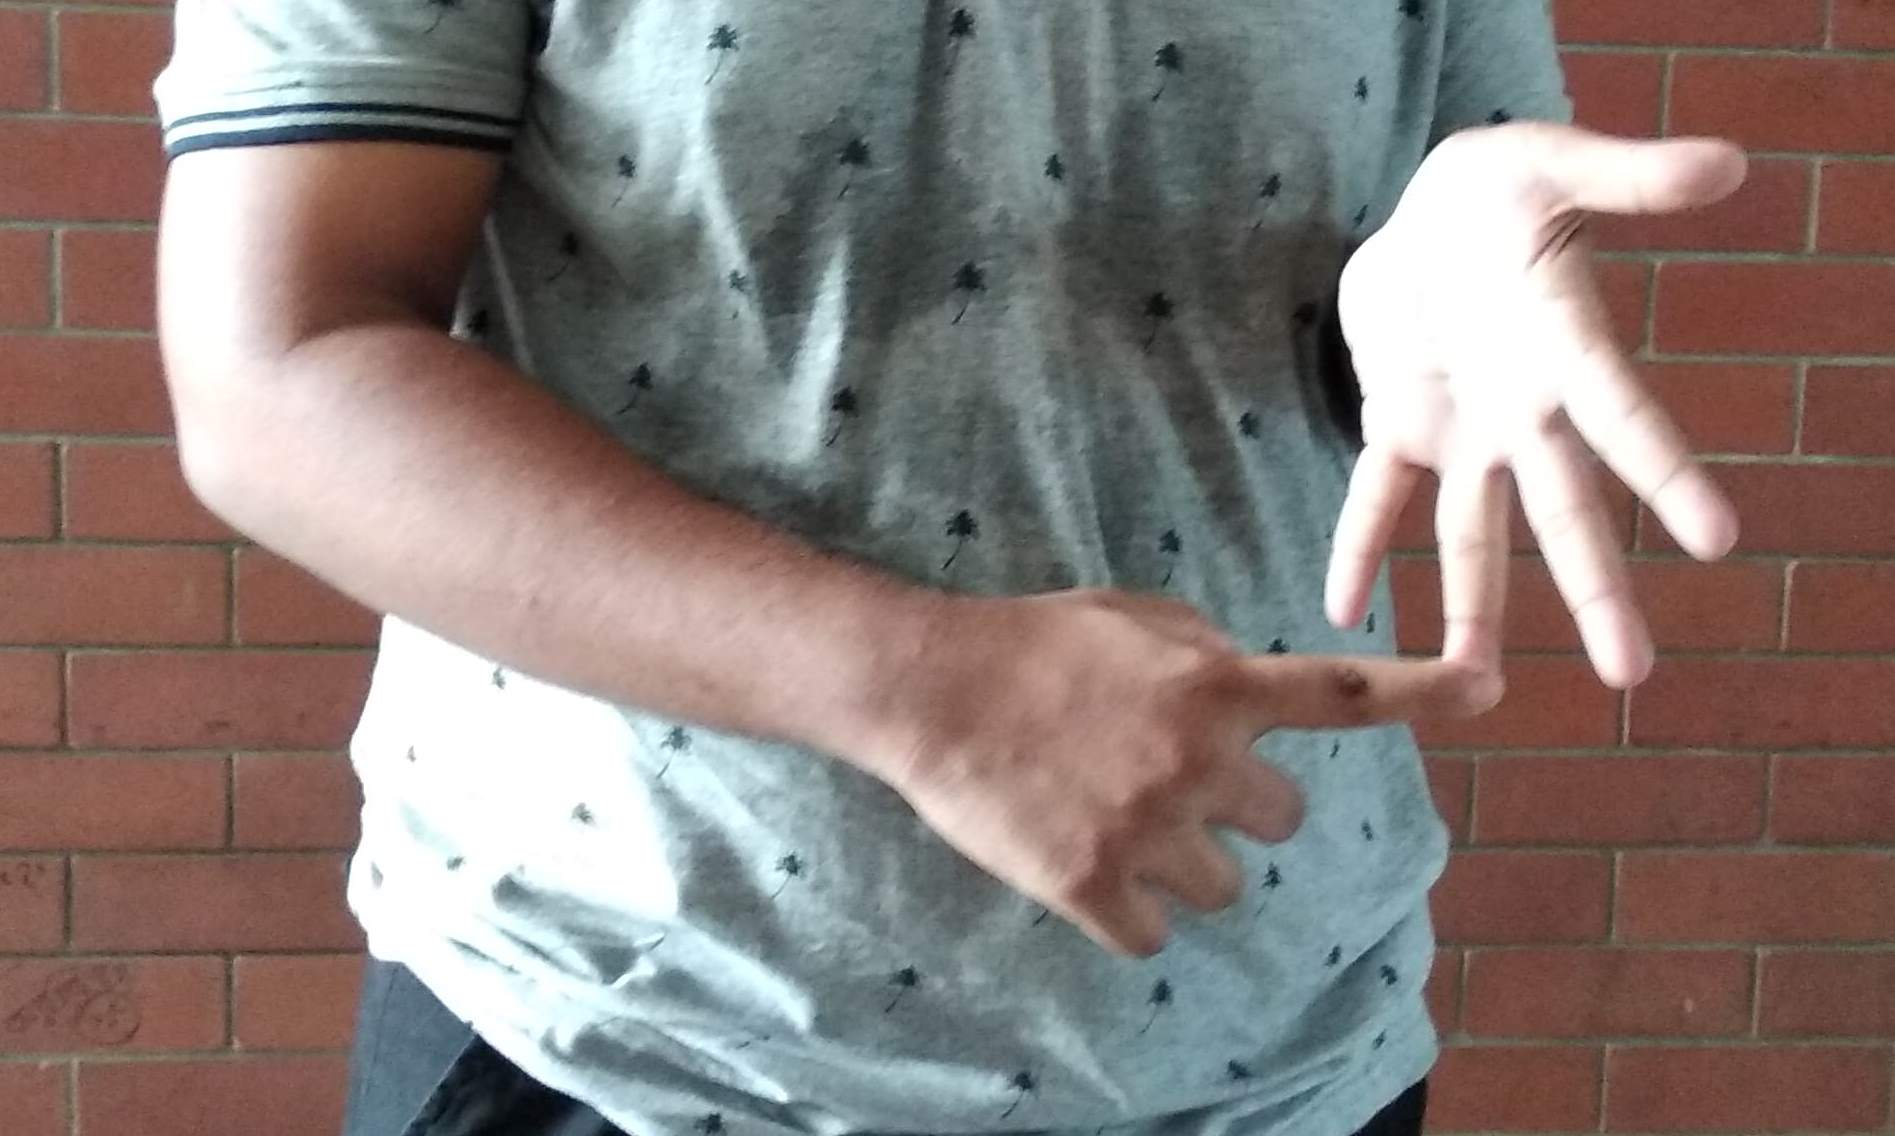e: (1042, 187, 1729, 972)
